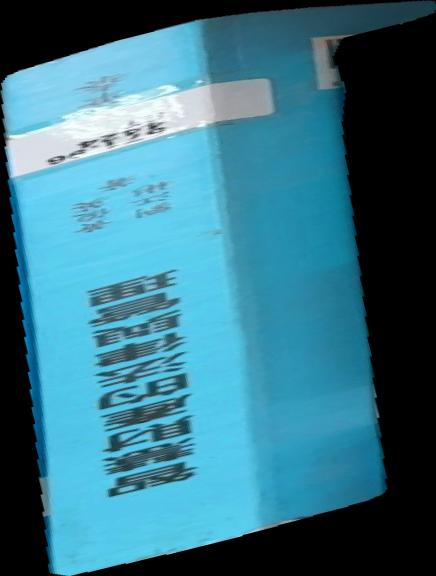reverse: (1, 1, 436, 576)
